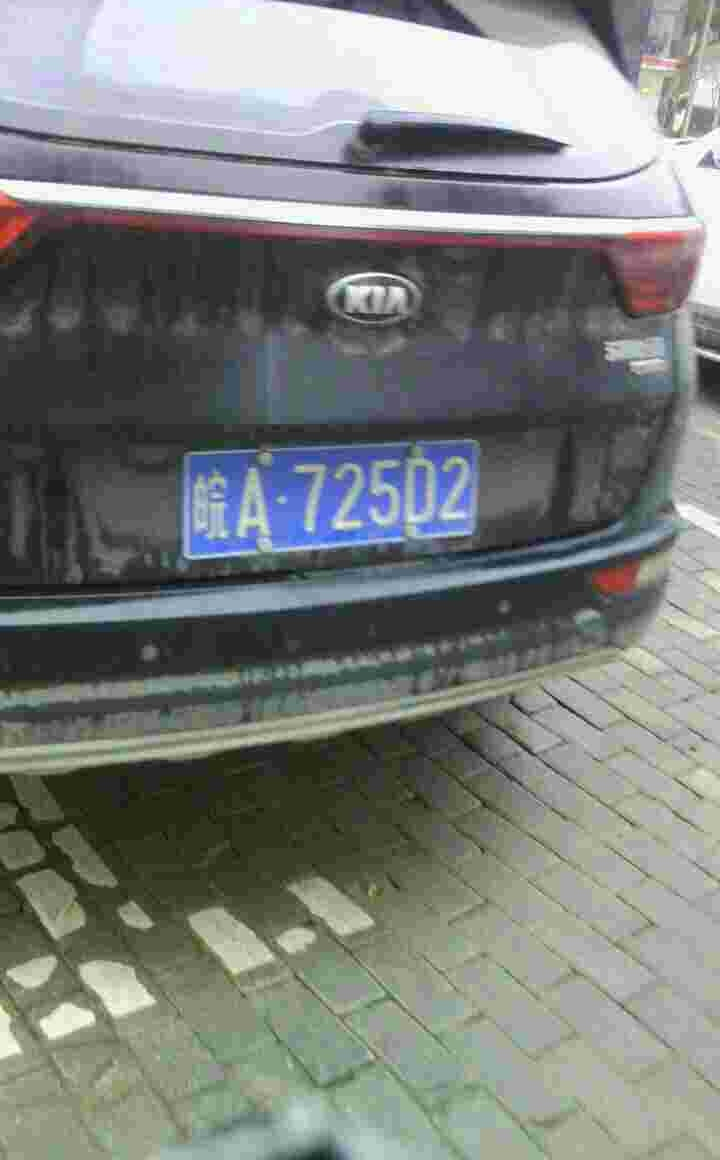license_plate: (183, 441, 493, 561)
